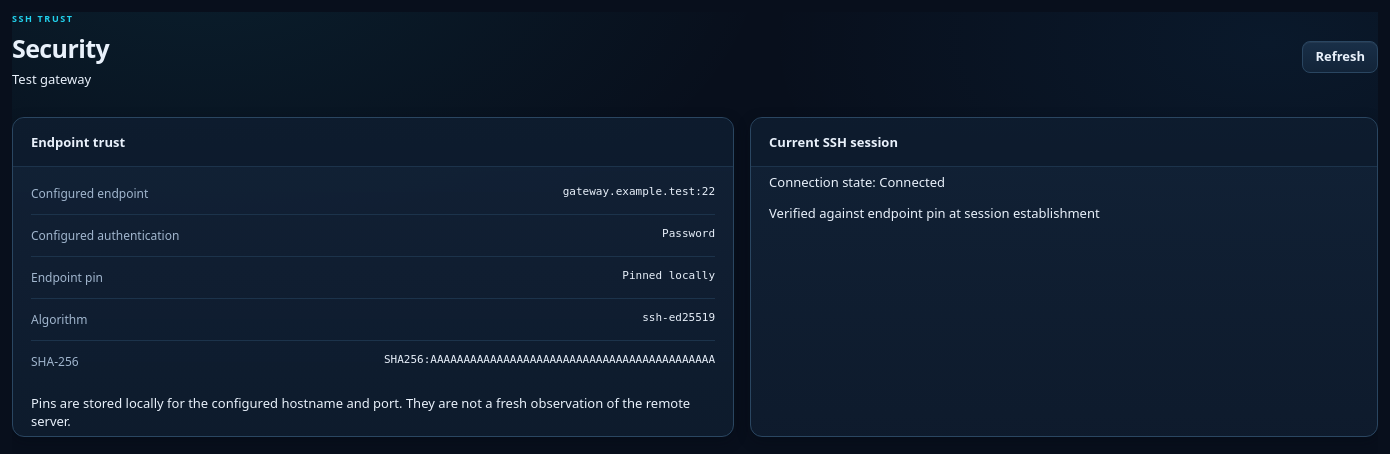
Test: local SSH endpoint trust › manual Refresh is exact-once while pending; failure removes prior pin and verification
Later steps or results of the test are not shown.
expect the text "Verified against endpoint pin at session establishment" is shown: met, box x1=769 y1=204 x2=1100 y2=222
Step 1. Click the button "Refresh" → (1340, 56), box x1=1302 y1=40 x2=1378 y2=72
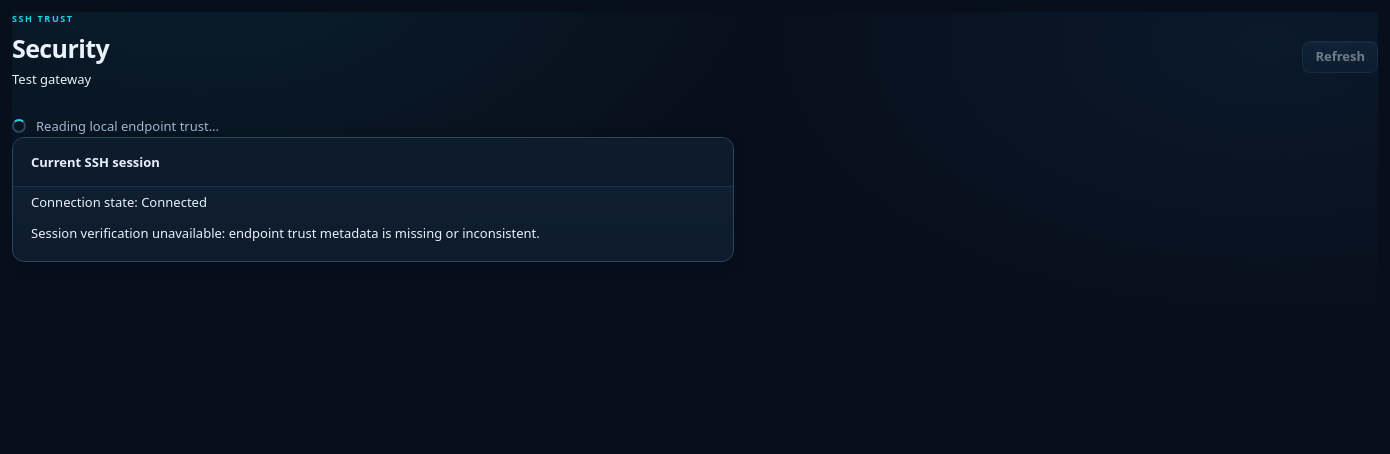
Step 2. Click the button "Refresh" → (1340, 56), box x1=1302 y1=40 x2=1378 y2=72
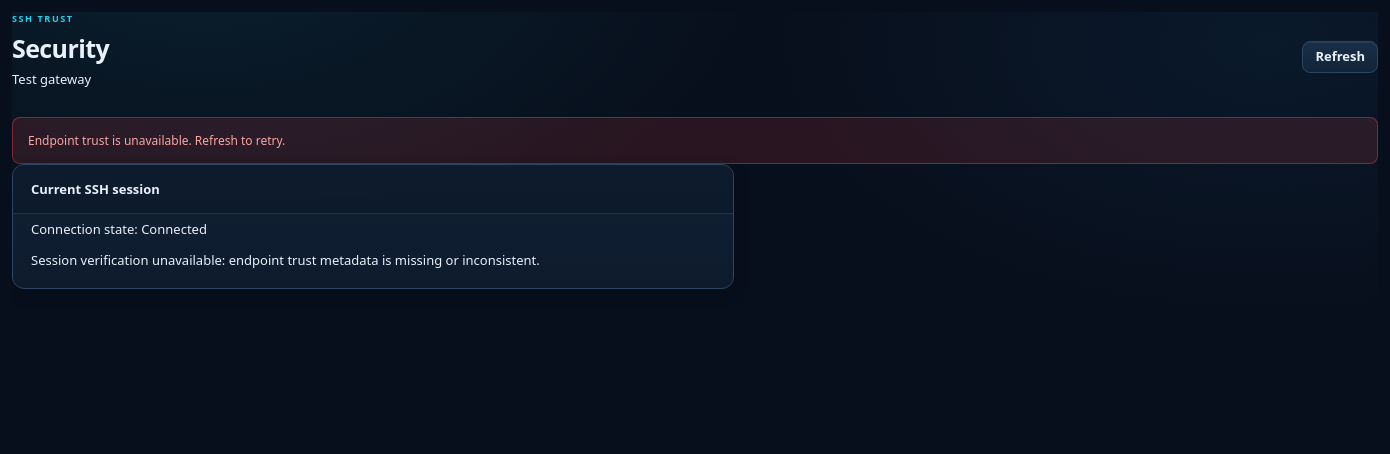
expect the text "Verified against endpoint pin at session establishment" is not shown: met
expect the text "Endpoint trust is unavailable. Refresh to retry." is shown: met, box x1=12 y1=117 x2=1378 y2=164
Step 3. Click the button "Refresh" → (1340, 56), box x1=1302 y1=40 x2=1378 y2=72
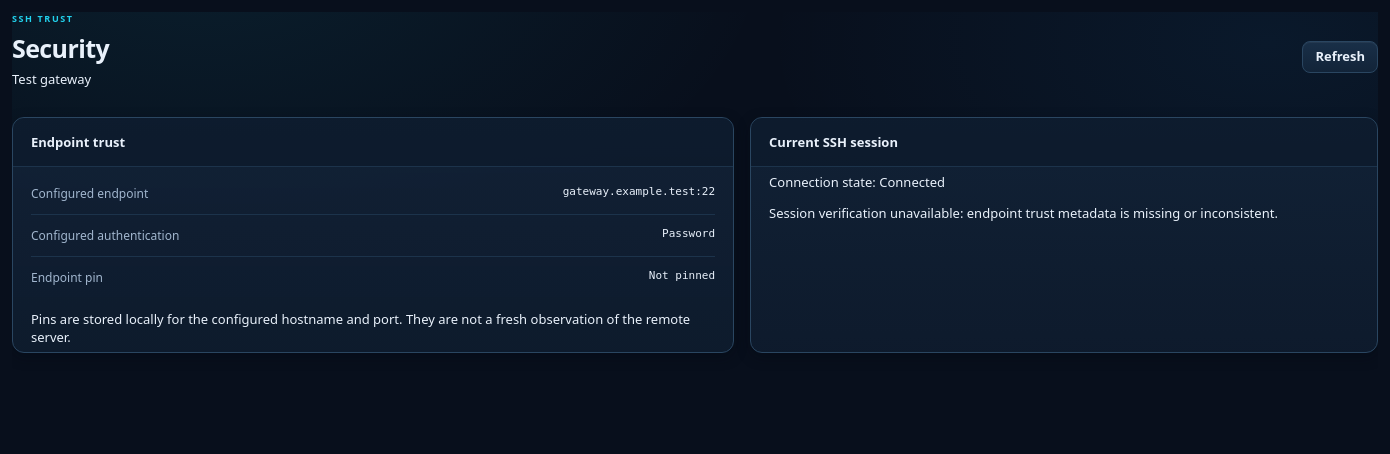
expect the text "Not pinned" is shown: met, box x1=649 y1=269 x2=715 y2=286
